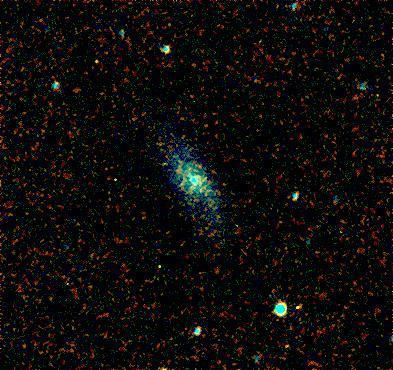star: (281, 293, 311, 323)
